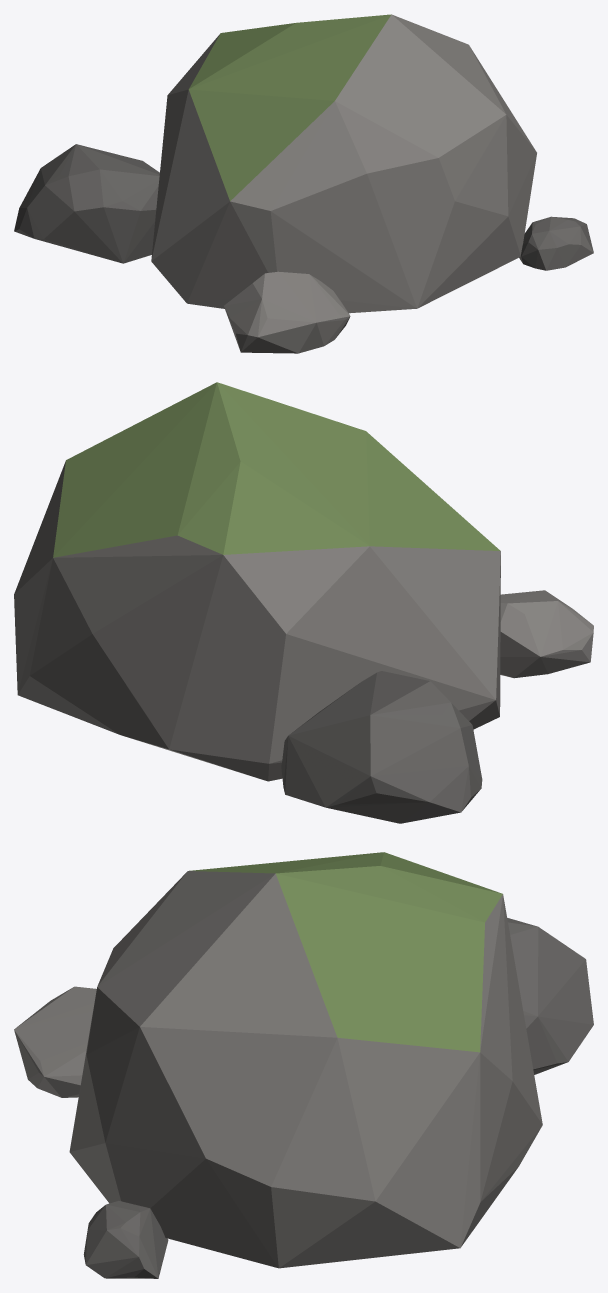
The model's file is rock.glb.
3 views of the same model, one above another, from view 1: azimuth 30°, elevation 25°; view 2: azimuth 150°, elevation 25°; view 3: azimuth 270°, elevation 25° (orthographic). The views are drawn at different scales.
Parts seen in each view (by area): view 1: Body; view 2: Body; view 3: Body.
Boxes of the visible parts, x1=… form: Body: x1=14, y1=14, x2=593, y2=353; Body: x1=14, y1=382, x2=593, y2=823; Body: x1=14, y1=852, x2=593, y2=1278.
Bounding box in the file's own units: 1.85 × 0.9232 × 1.56.
